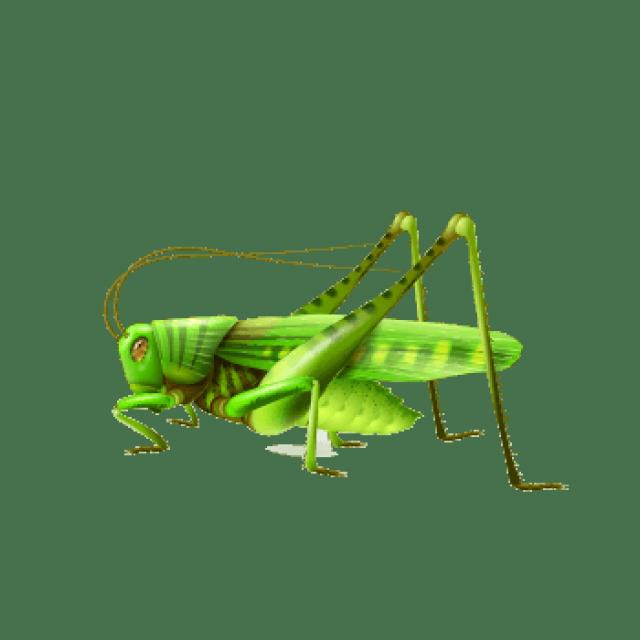ZhaMeng: (42, 202, 590, 520)
